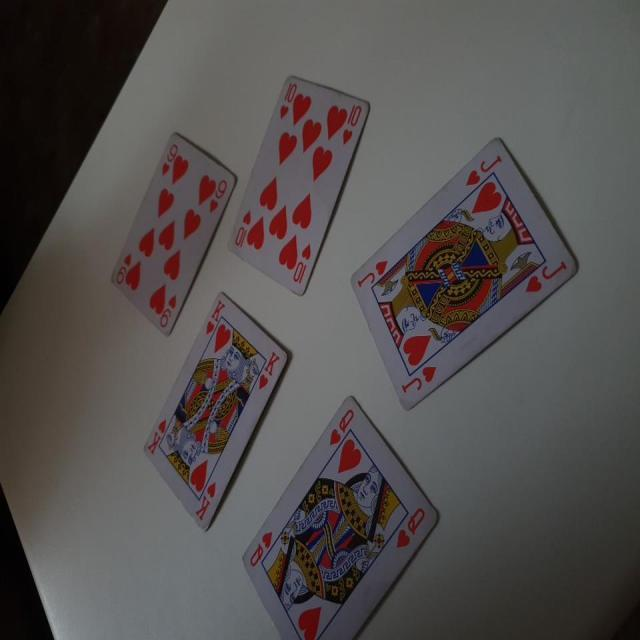10 of hearts: (231, 74, 374, 302)
9 of hearts: (106, 122, 240, 340)
jack of hearts: (338, 136, 584, 414)
king of hearts: (138, 288, 296, 542)
queen of hearts: (240, 394, 443, 632)
